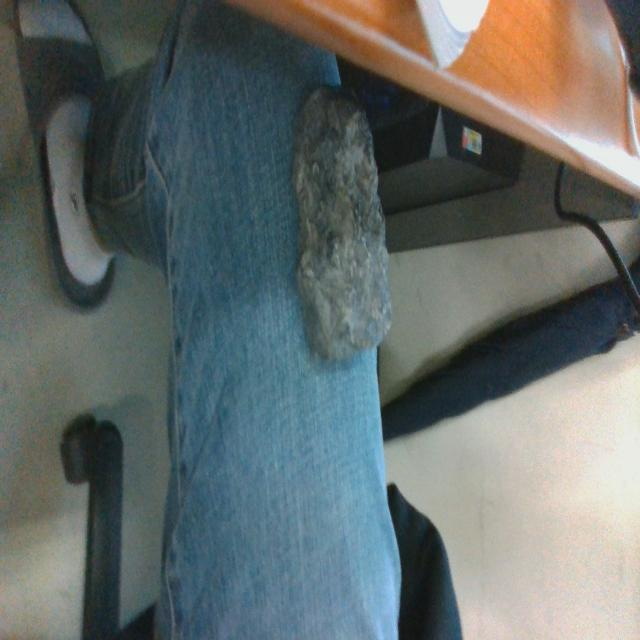stone: (293, 83, 393, 364)
